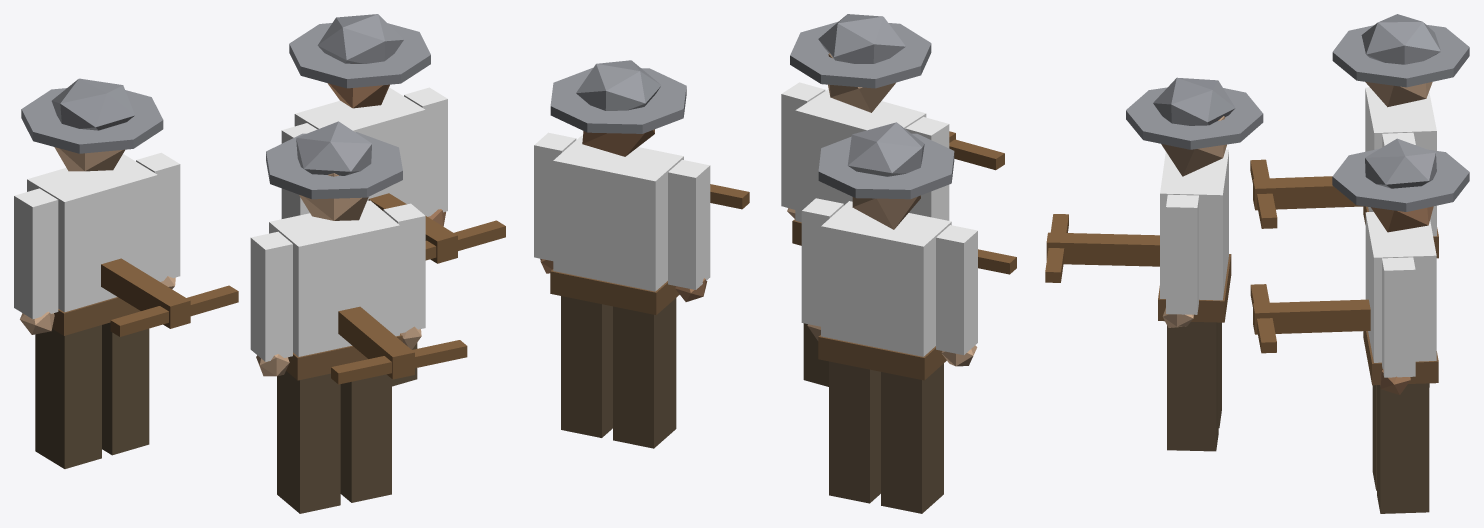
Rendered from Crossbowman.glb.
The picture shows the model from 3 angles, left to right: view 1: azimuth 30°, elevation 25°; view 2: azimuth 150°, elevation 25°; view 3: azimuth 270°, elevation 25°; orthographic projection. The views are drawn at different scales.
Parts seen in each view (by area): view 1: Units_Crossbowman; view 2: Units_Crossbowman; view 3: Units_Crossbowman.
Boxes of the visible parts, box(x1,y1,x2,y2) form: Units_Crossbowman: box(14, 14, 505, 513); Units_Crossbowman: box(534, 14, 1016, 513); Units_Crossbowman: box(1045, 14, 1469, 513).
Size of the model in its own units: 0.2409 by 0.1943 by 0.2158.
